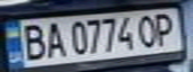0: (66, 18, 87, 55)
4: (115, 14, 139, 52)
7: (100, 15, 121, 52), (84, 17, 103, 54)
A: (42, 20, 69, 58)
B: (18, 21, 48, 62)
O: (136, 11, 160, 48)
P: (148, 10, 178, 46)
